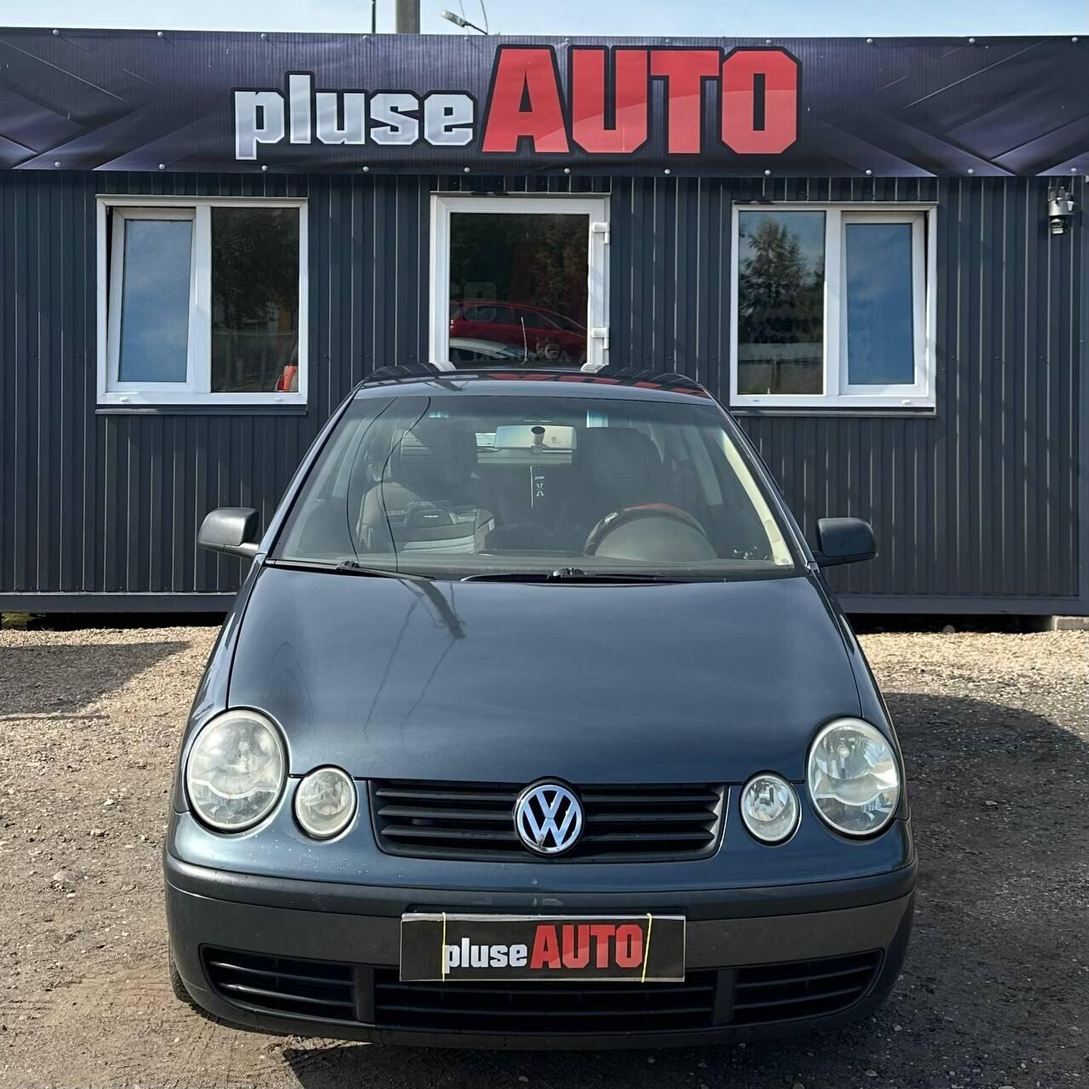Polo_2001-2005: (132, 362, 927, 1063)
